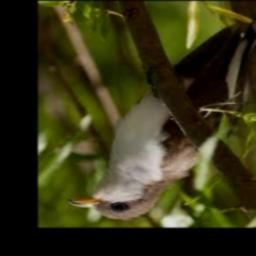Cuckoo: (67, 1, 256, 221)
